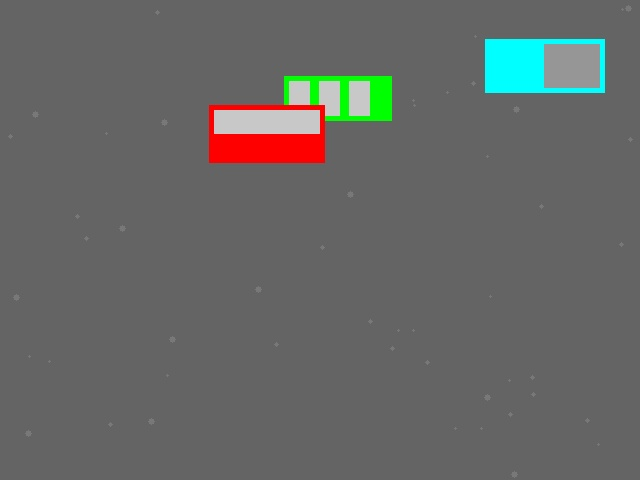bus: (284, 76, 391, 120)
car: (209, 105, 324, 162)
truck: (485, 39, 604, 92)
